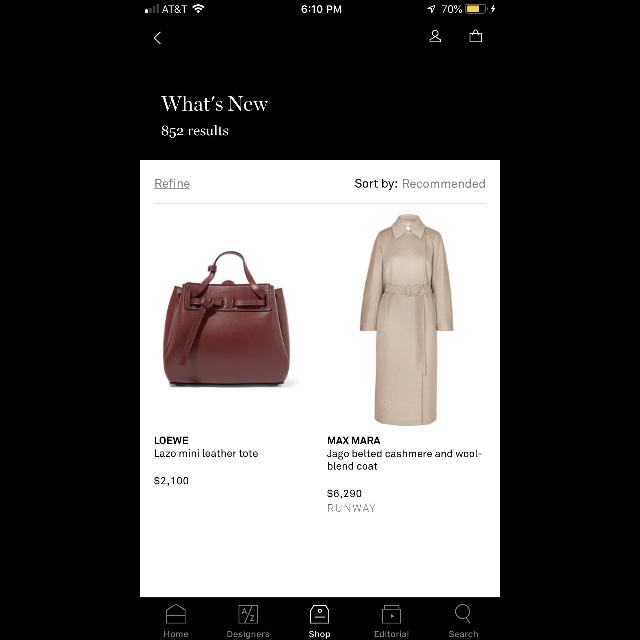icon: (166, 604, 186, 624), (382, 605, 402, 623), (455, 604, 471, 624), (470, 30, 482, 42), (430, 30, 440, 42), (154, 32, 160, 44)
image: (360, 214, 454, 426), (162, 251, 290, 387), (238, 605, 258, 623), (310, 605, 330, 623)
text: (326, 450, 482, 470), (161, 95, 269, 111), (355, 178, 485, 190), (162, 124, 228, 138), (156, 449, 258, 457), (154, 178, 190, 190), (328, 436, 380, 444), (328, 504, 376, 512), (326, 488, 362, 498), (155, 476, 189, 486), (227, 631, 269, 639), (374, 630, 408, 638), (156, 436, 188, 444), (449, 630, 478, 638), (310, 631, 330, 639), (164, 631, 188, 637)
uppertaskbar: (140, 0, 500, 14)
